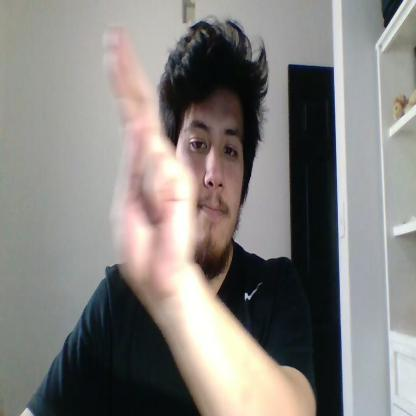R: (103, 25, 198, 302)
